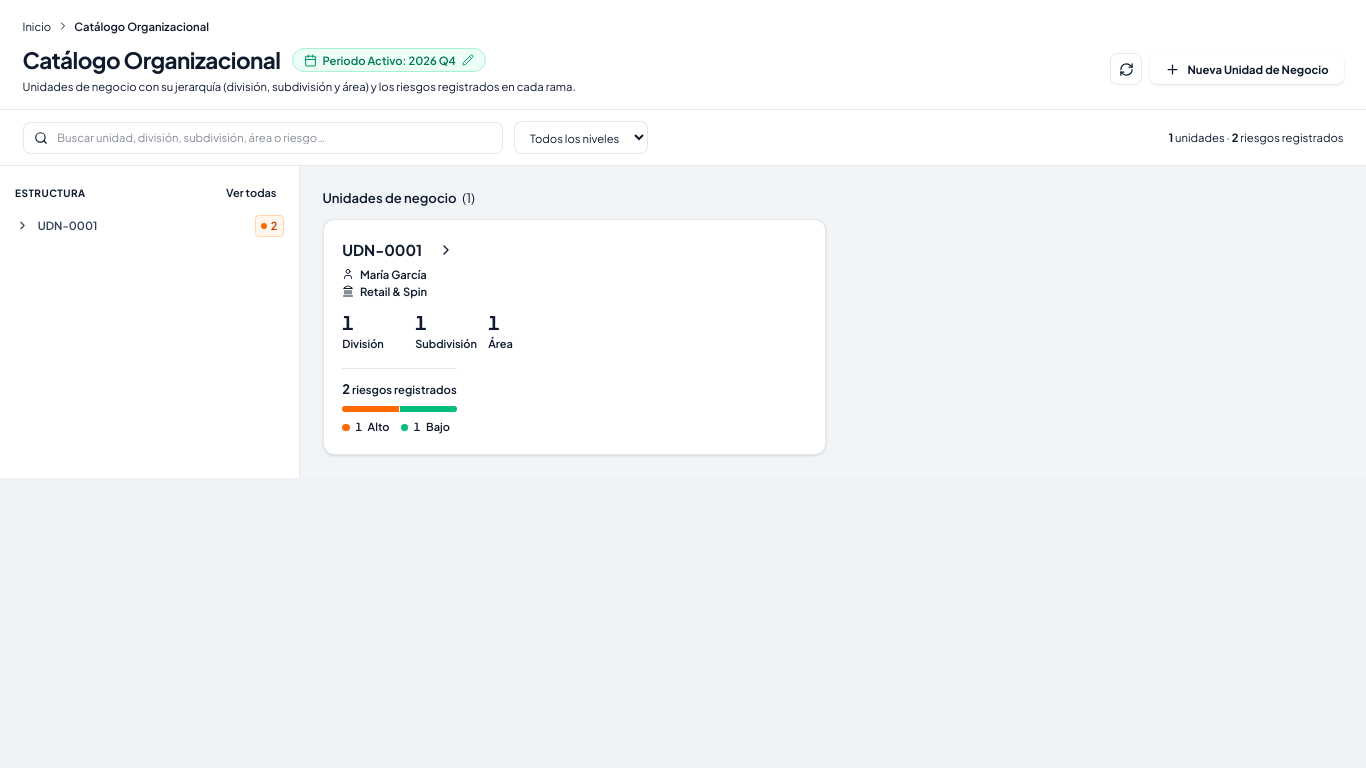
Catálogo de estructura organizacional (HierarchyView) › CP-FE-02 (AC1): crea una unidad con gerente y departamento, sin proceso inicial
Click the button with test id "btn-nueva-unidad" at [1247, 69], box [1150, 54, 1344, 84]
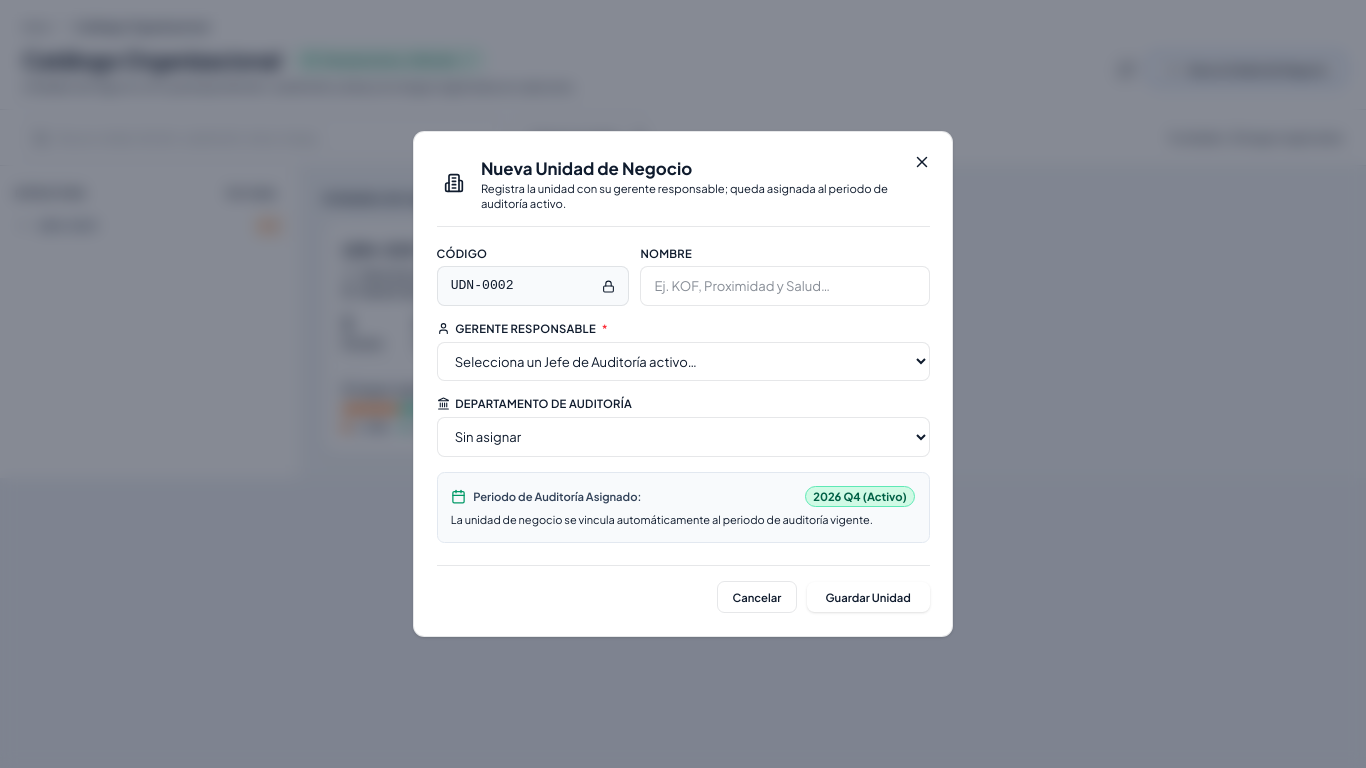
expect the element with test id "campo-codigo" does not show "Se asigna al guardar": met, box [436, 266, 629, 306]
expect the element with test id "campo-codigo" reads "UDN-0002": met, box [451, 278, 514, 293]
expect the picture named "Se asigna al guardar" is shown: met, box [602, 280, 615, 293]
Select "María García" in the dropdown labelled "Gerente Responsable *" at [683, 361], box [436, 342, 930, 381]
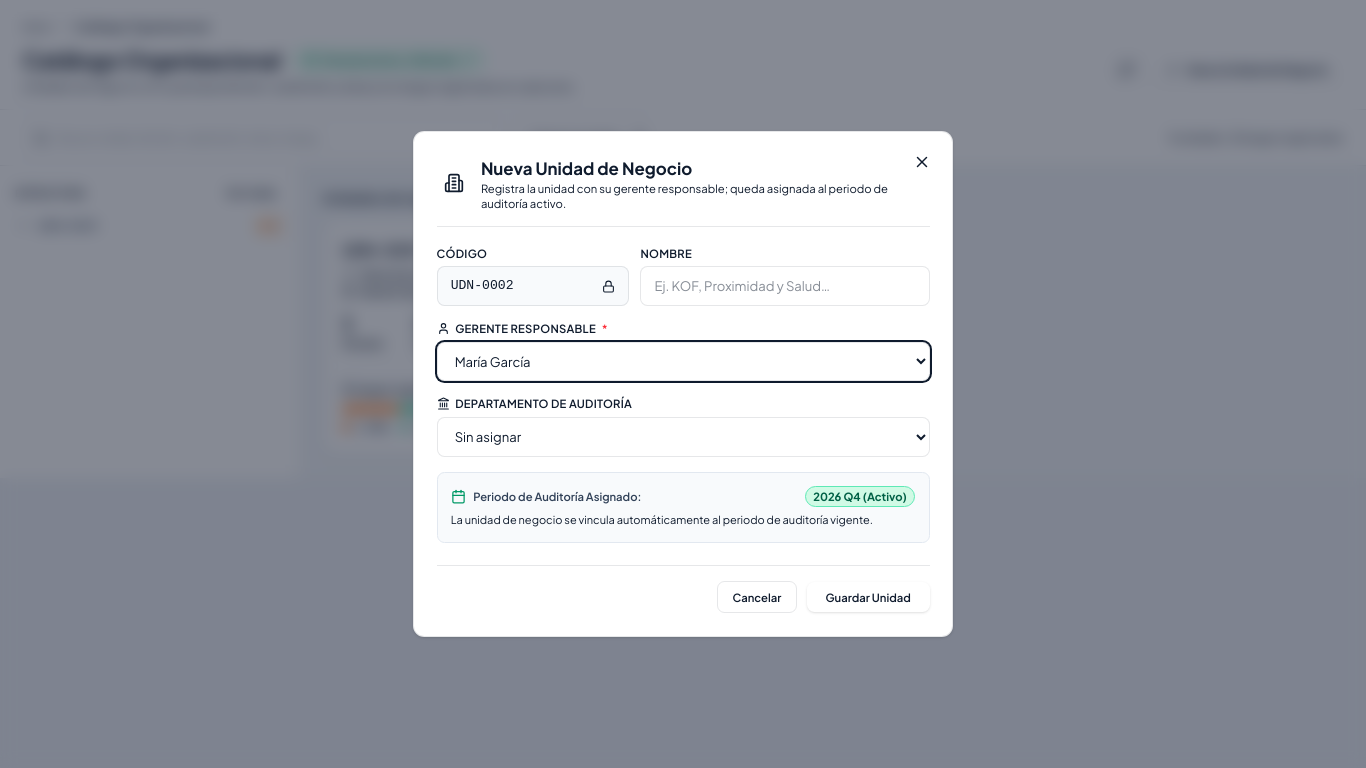
Select "Beverage" in the dropdown labelled "Departamento de Auditoría" at [683, 437], box [436, 417, 930, 457]
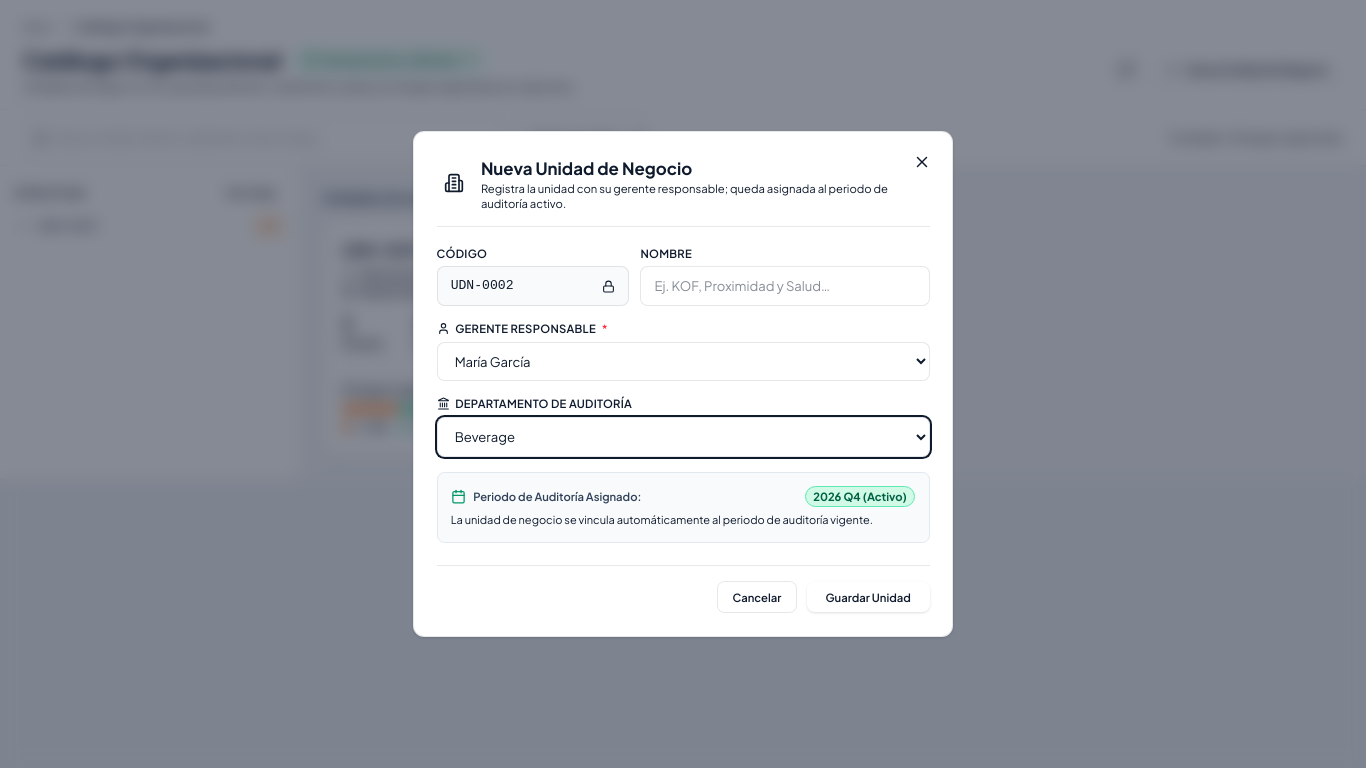
Click the button "Guardar Unidad" at [868, 597], box [807, 582, 930, 612]
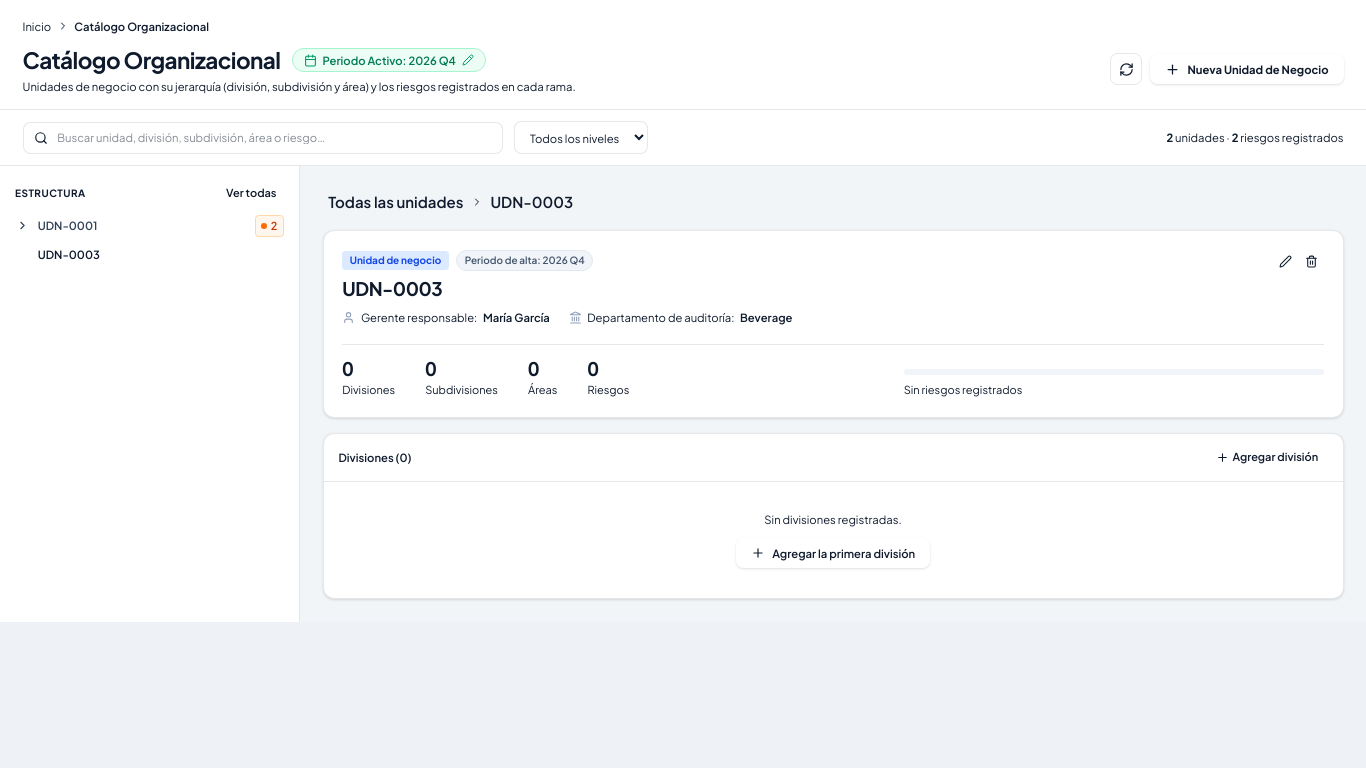
expect the heading "UDN-0003" is shown: met, box [342, 277, 442, 300]
expect the button with test id "btn-agregar-primera-division" is shown: met, box [736, 538, 930, 568]
expect the element with test id "arbol-unidad-20" is shown: met, box [8, 241, 292, 267]
